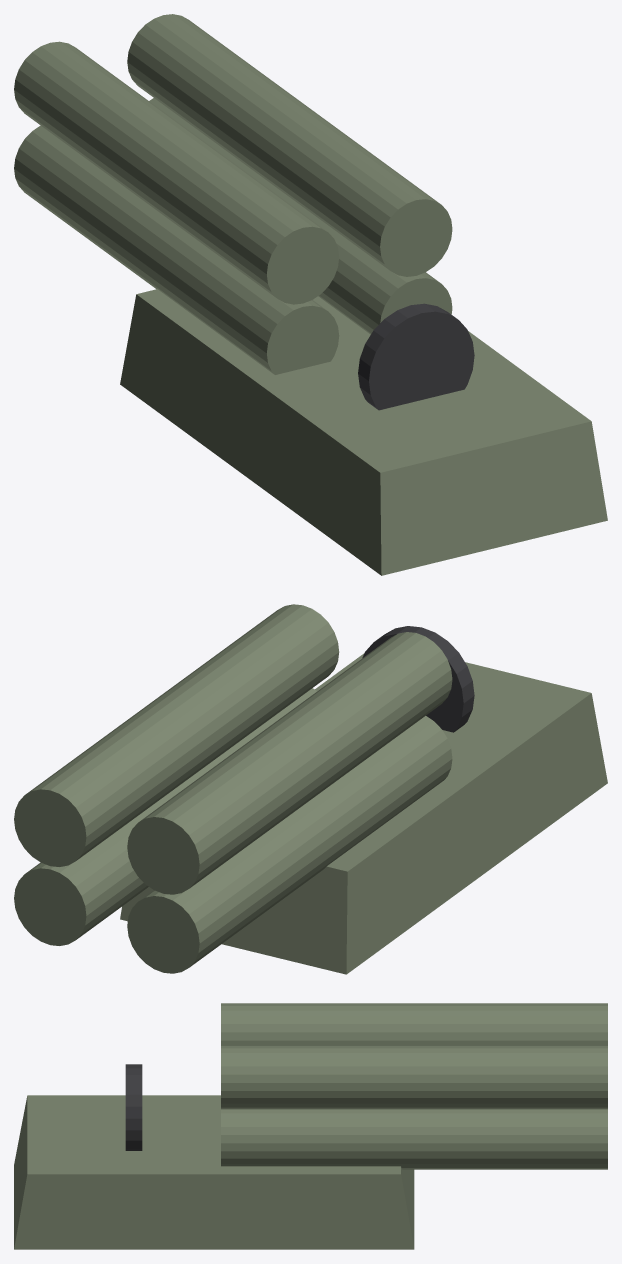
File: type_hq9_launcherfx.glb
3 renders of one model, top to bottom at view 1: azimuth 30°, elevation 25°; view 2: azimuth 150°, elevation 25°; view 3: azimuth 270°, elevation 25°, orthographic. The views are drawn at different scales.
Parts seen in each view (by area): view 1: fx_launcher, fx_tube_1_1, fx_tube_-1_1, fx_tube_-1_0, fx_radar, fx_tube_1_0; view 2: fx_launcher, fx_tube_-1_1, fx_tube_1_1, fx_tube_-1_0, fx_tube_1_0, fx_radar; view 3: fx_launcher, fx_tube_1_1, fx_tube_1_0, fx_tube_-1_1, fx_radar.
Boxes of the visible parts, x1=… form: fx_launcher: x1=120, y1=289, x2=607, y2=575; fx_tube_1_1: x1=127, y1=14, x2=452, y2=276; fx_tube_-1_1: x1=14, y1=41, x2=339, y2=304; fx_tube_-1_0: x1=14, y1=125, x2=339, y2=374; fx_radar: x1=358, y1=303, x2=474, y2=410; fx_tube_1_0: x1=149, y1=98, x2=452, y2=334; fx_launcher: x1=120, y1=653, x2=607, y2=974; fx_tube_-1_1: x1=127, y1=632, x2=452, y2=894; fx_tube_1_1: x1=14, y1=604, x2=339, y2=866; fx_tube_-1_0: x1=127, y1=716, x2=452, y2=973; fx_tube_1_0: x1=14, y1=688, x2=317, y2=945; fx_radar: x1=362, y1=626, x2=474, y2=732; fx_launcher: x1=14, y1=1095, x2=414, y2=1249; fx_tube_1_1: x1=221, y1=1045, x2=607, y2=1109; fx_tube_1_0: x1=221, y1=1109, x2=607, y2=1169; fx_tube_-1_1: x1=221, y1=1003, x2=607, y2=1045; fx_radar: x1=125, y1=1064, x2=142, y2=1150.
Size of the model in its own units: 3 by 2.98 by 8.9.
